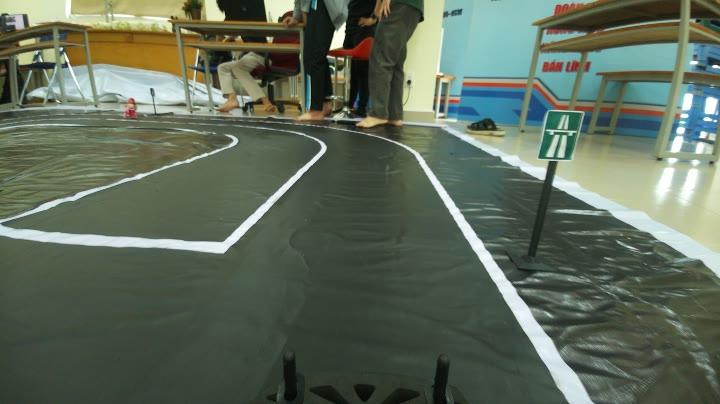highway_entry: (540, 104, 584, 161)
